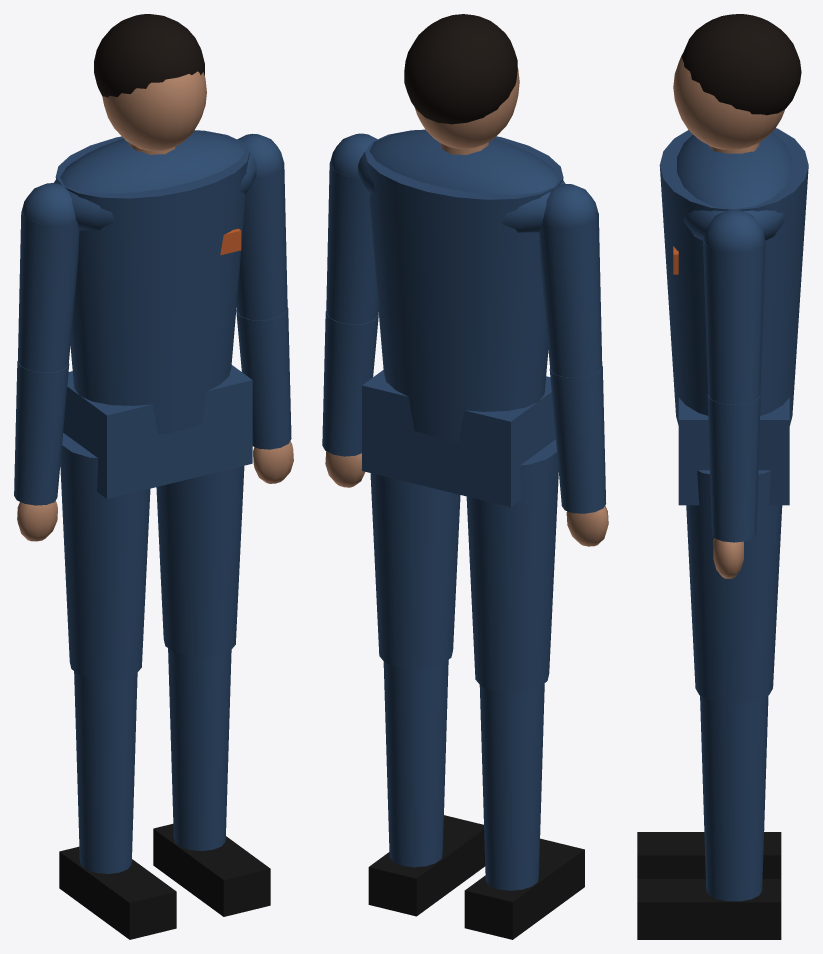
The model's file is crew_member.glb.
The picture shows the model from 3 angles, left to right: view 1: azimuth 30°, elevation 25°; view 2: azimuth 150°, elevation 25°; view 3: azimuth 270°, elevation 25°; orthographic projection. The views are drawn at different scales.
Visible parts, largest first — view 1: Torso__Crew_Jumpsuit, Thigh__Crew_Jumpsuit (×2), Shin__Crew_Jumpsuit (×2), UpperArm__Crew_Jumpsuit (×2), Pelvis__Crew_Jumpsuit, Shin__Char_Shoes (×2), Forearm__Crew_Jumpsuit (×2), Torso__Char_Hair, Torso__Char_Skin_A, Forearm__Char_Skin_A (×2); view 2: Torso__Crew_Jumpsuit, Thigh__Crew_Jumpsuit (×2), Shin__Crew_Jumpsuit (×2), UpperArm__Crew_Jumpsuit (×2), Pelvis__Crew_Jumpsuit, Forearm__Crew_Jumpsuit (×2), Shin__Char_Shoes (×2), Torso__Char_Hair, Torso__Char_Skin_A, Forearm__Char_Skin_A (×2); view 3: Torso__Crew_Jumpsuit, Thigh__Crew_Jumpsuit, Shin__Crew_Jumpsuit, Shin__Char_Shoes (×2), UpperArm__Crew_Jumpsuit, Torso__Char_Hair, Forearm__Crew_Jumpsuit, Pelvis__Crew_Jumpsuit, Torso__Char_Skin_A, Forearm__Char_Skin_A.
Part boxes in pixels (box(x1,y1,x2,y2)): Torso__Crew_Jumpsuit: box(54, 130, 256, 434); Thigh__Crew_Jumpsuit (×2): box(60, 433, 244, 680); Shin__Crew_Jumpsuit (×2): box(74, 648, 231, 873); UpperArm__Crew_Jumpsuit (×2): box(18, 133, 287, 372); Pelvis__Crew_Jumpsuit: box(63, 365, 252, 498); Shin__Char_Shoes (×2): box(59, 824, 270, 939); Forearm__Crew_Jumpsuit (×2): box(14, 307, 291, 505); Torso__Char_Hair: box(94, 14, 204, 97); Torso__Char_Skin_A: box(102, 71, 206, 154); Forearm__Char_Skin_A (×2): box(17, 441, 293, 541); Torso__Crew_Jumpsuit: box(358, 129, 565, 441); Thigh__Crew_Jumpsuit (×2): box(370, 439, 558, 692); Shin__Crew_Jumpsuit (×2): box(383, 660, 544, 890); UpperArm__Crew_Jumpsuit (×2): box(326, 133, 602, 377); Pelvis__Crew_Jumpsuit: box(362, 370, 555, 507); Forearm__Crew_Jumpsuit (×2): box(322, 311, 606, 513); Shin__Char_Shoes (×2): box(368, 815, 584, 939); Torso__Char_Hair: box(404, 14, 517, 124); Torso__Char_Skin_A: box(414, 67, 519, 154); Forearm__Char_Skin_A (×2): box(325, 451, 608, 546); Torso__Crew_Jumpsuit: box(659, 128, 808, 425); Thigh__Crew_Jumpsuit: box(686, 470, 782, 703); Shin__Crew_Jumpsuit: box(700, 695, 768, 901); Shin__Char_Shoes (×2): box(637, 832, 781, 939); UpperArm__Crew_Jumpsuit: box(703, 209, 765, 404); Torso__Char_Hair: box(681, 14, 801, 115); Forearm__Crew_Jumpsuit: box(707, 395, 760, 542); Pelvis__Crew_Jumpsuit: box(678, 397, 789, 505); Torso__Char_Skin_A: box(673, 54, 784, 153); Forearm__Char_Skin_A: box(713, 538, 743, 578).
Size of the model in its own units: 0.5852 by 1.76 by 0.3094.
